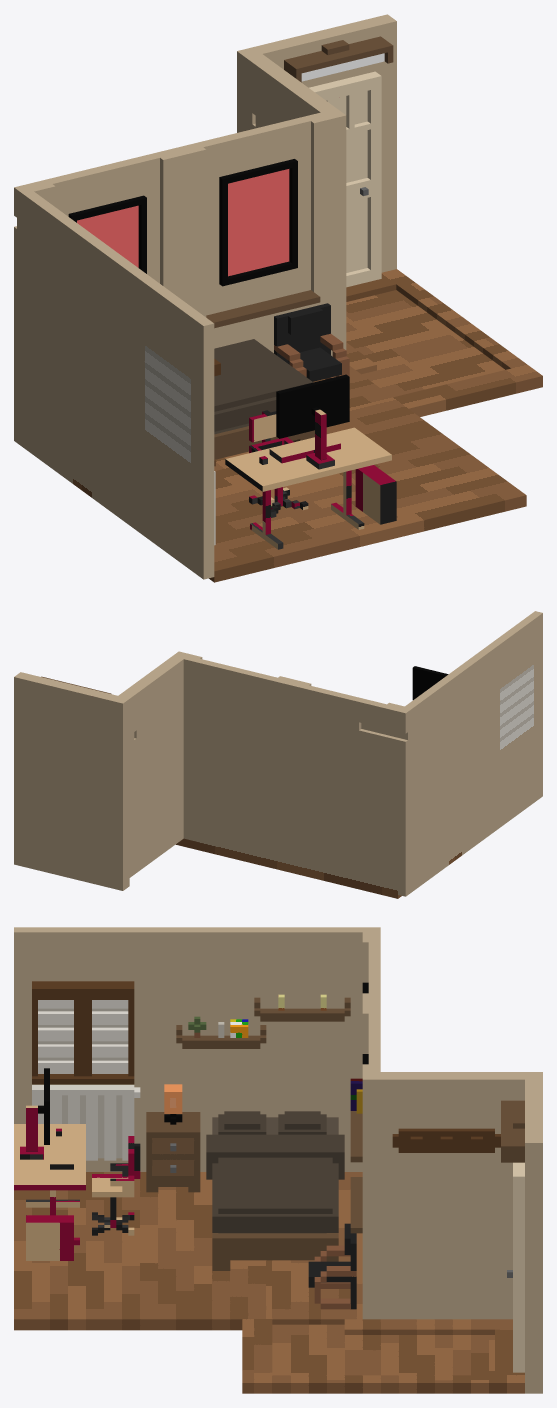
The model's file is bedroomTest.glb.
The picture shows the model from 3 angles, top to bottom: view 1: azimuth 30°, elevation 25°; view 2: azimuth 150°, elevation 25°; view 3: azimuth 270°, elevation 25°; orthographic projection. The views are drawn at different scales.
Parts seen in each view (by area): view 1: room, desktop, bed, right paint, screen, left_paint, whiteLight; view 2: room, screen; view 3: room, bed, desktop, orangeLight.
Part boxes in pixels (bbox=[...]): room: bbox=[14, 14, 542, 582]; desktop: bbox=[225, 409, 396, 549]; bed: bbox=[214, 339, 314, 459]; right paint: bbox=[228, 169, 289, 276]; screen: bbox=[276, 374, 349, 438]; left_paint: bbox=[77, 205, 138, 267]; whiteLight: bbox=[301, 53, 384, 81]; room: bbox=[14, 611, 542, 898]; screen: bbox=[412, 666, 448, 699]; room: bbox=[14, 927, 542, 1393]; bed: bbox=[206, 1111, 344, 1270]; desktop: bbox=[14, 1105, 140, 1260]; orangeLight: bbox=[164, 1084, 182, 1113].
Size of the model in its own units: 8.5 by 4.6 by 8.8.
Materials: 8 (7 with a texture image).
